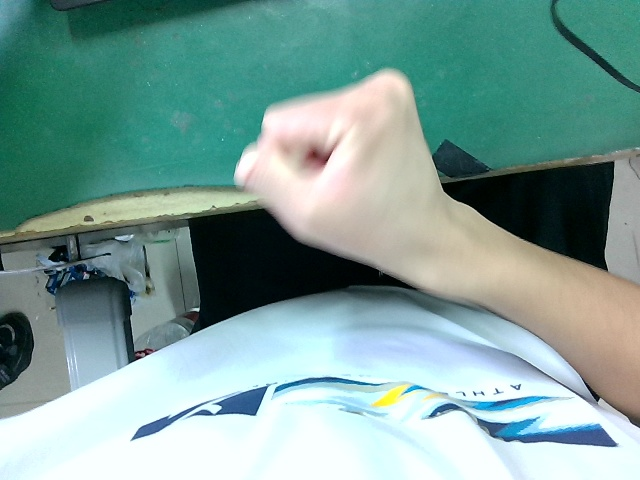stone: (233, 62, 449, 287)
